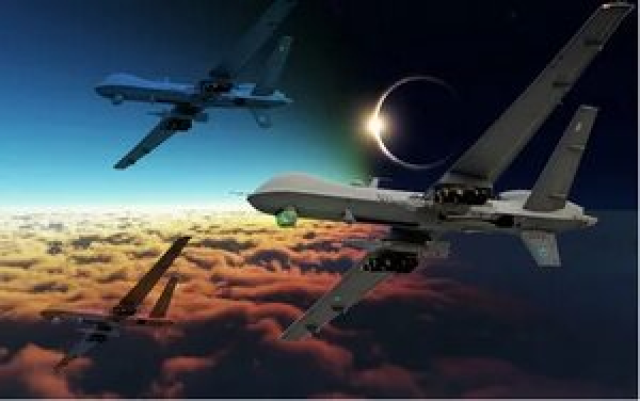military drone: (227, 3, 634, 342), (92, 0, 295, 169), (39, 236, 191, 369)
